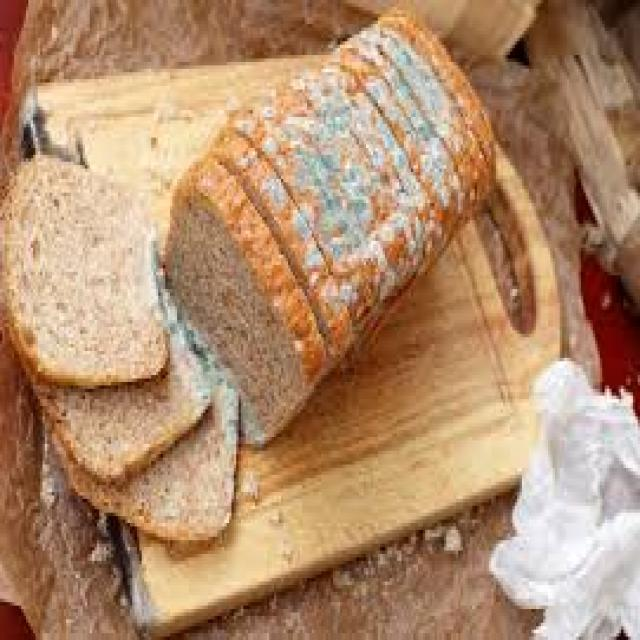organic waste: (161, 3, 494, 444), (161, 155, 321, 451), (0, 148, 168, 389), (206, 124, 354, 358), (47, 364, 239, 544), (224, 100, 373, 323), (23, 320, 205, 485), (326, 41, 453, 238), (375, 4, 496, 192), (236, 461, 262, 502), (276, 537, 305, 564), (437, 520, 460, 554), (267, 502, 286, 523)
